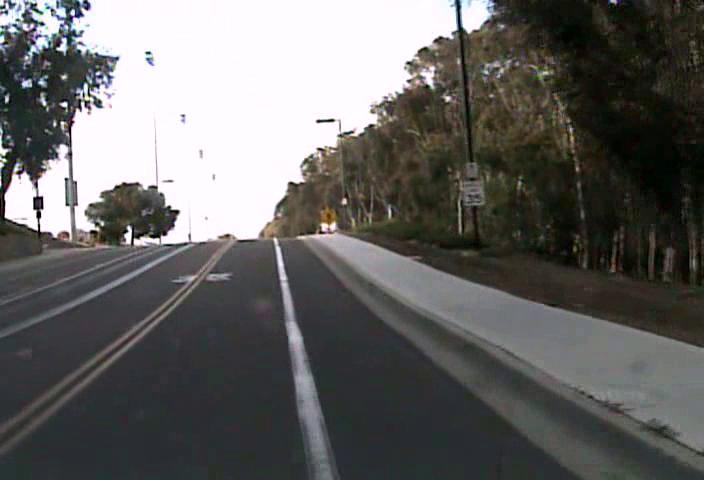speedLimit35: (461, 178, 485, 206)
